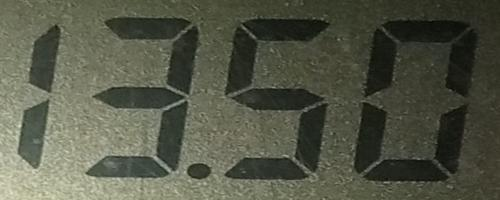.: (187, 160, 213, 186)
